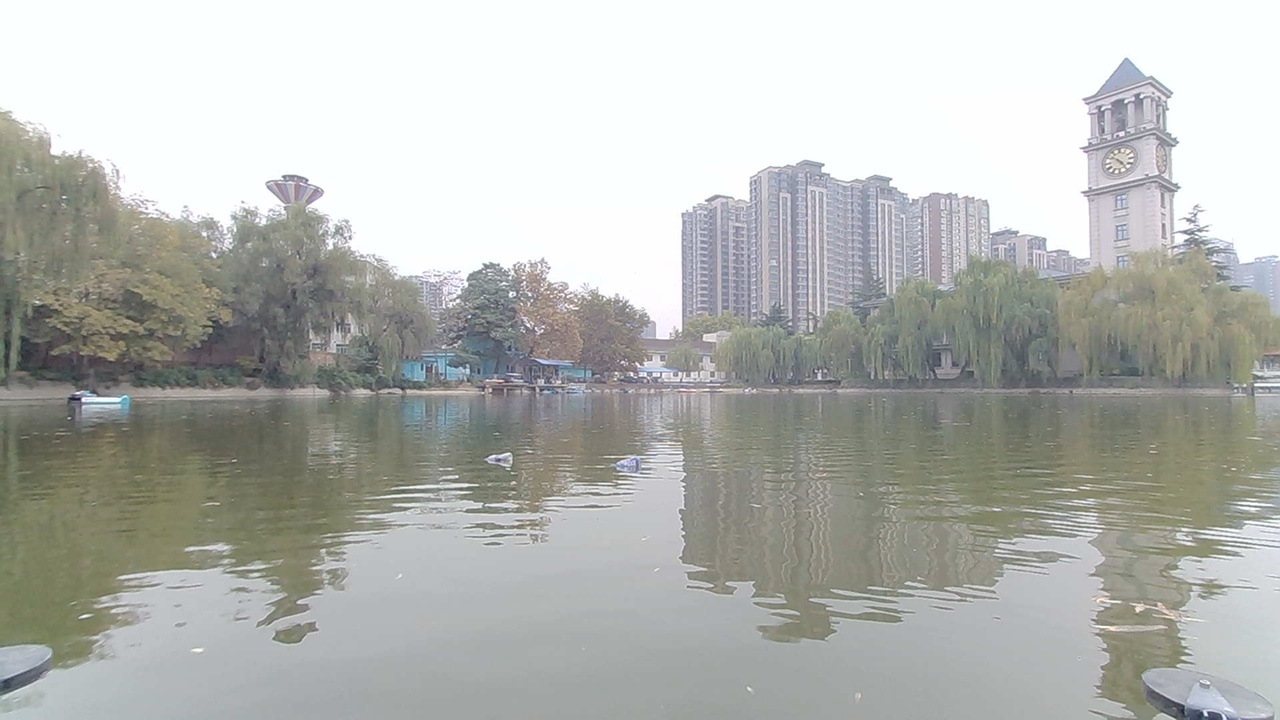bottle: (484, 443, 523, 469), (617, 458, 650, 475)
